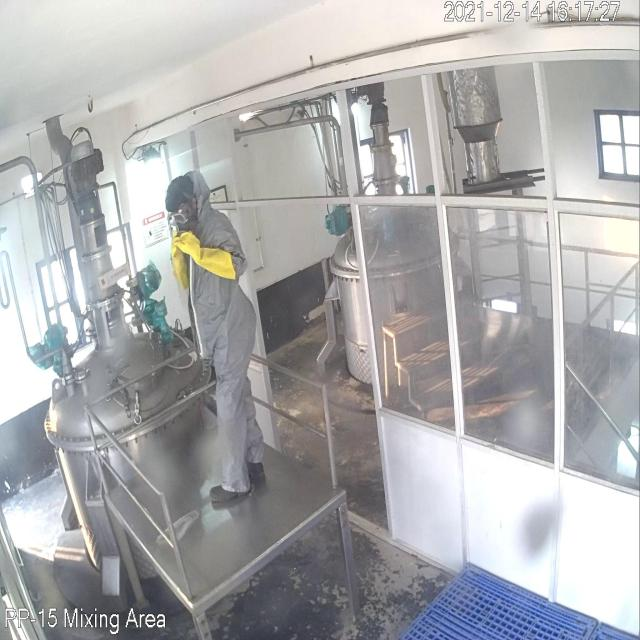Gloves: (171, 232, 236, 288)
No Hardhat: (165, 175, 195, 212)
Overall Suit: (188, 170, 264, 492)
Safety Boots: (209, 462, 266, 508)
